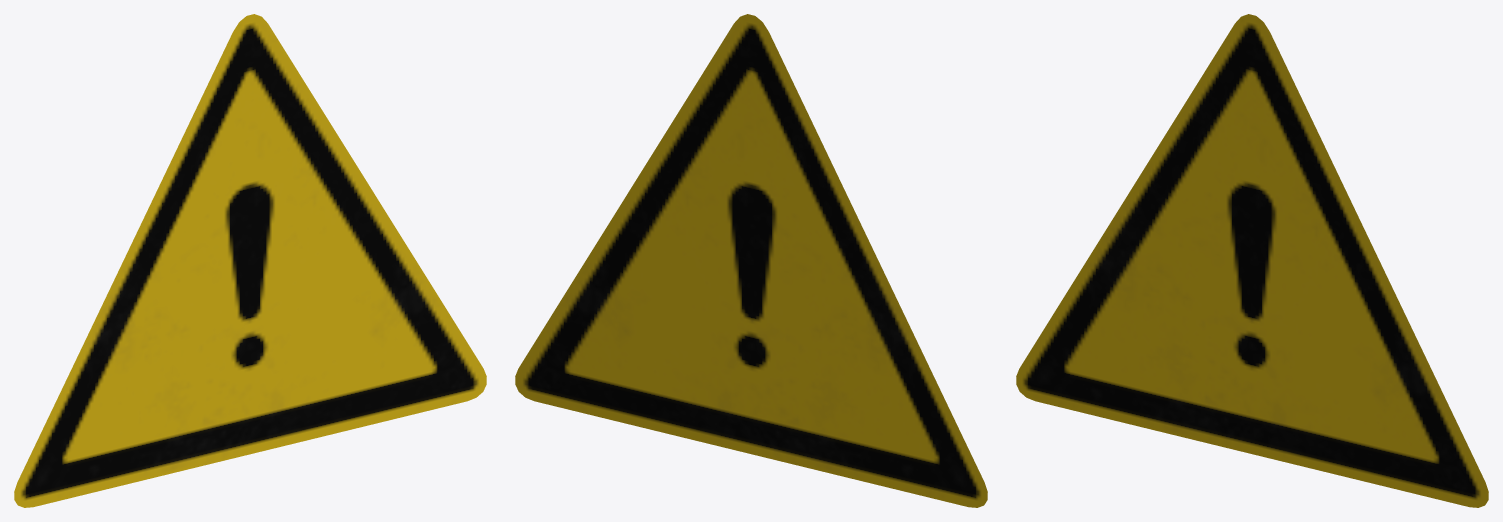
File: SM05_Decals_SafetySign_GeneralWarning.fbx
3 renders of one model, left to right at view 1: azimuth 30°, elevation 25°; view 2: azimuth 150°, elevation 25°; view 3: azimuth 330°, elevation 25°, orthographic.
Parts seen in each view (by area): view 1: SM05_Decals_SafetySign_GeneralWarning; view 2: SM05_Decals_SafetySign_GeneralWarning; view 3: SM05_Decals_SafetySign_GeneralWarning.
Boxes of the visible parts, x1,y1,x2,y2 form: SM05_Decals_SafetySign_GeneralWarning: (14, 14, 486, 507); SM05_Decals_SafetySign_GeneralWarning: (515, 14, 987, 507); SM05_Decals_SafetySign_GeneralWarning: (1016, 14, 1488, 507).
Size of the model in its own units: 0.3632 by 0.3226 by 5.26e-08.
